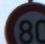Speed Limit -80-: (0, 0, 44, 43)
